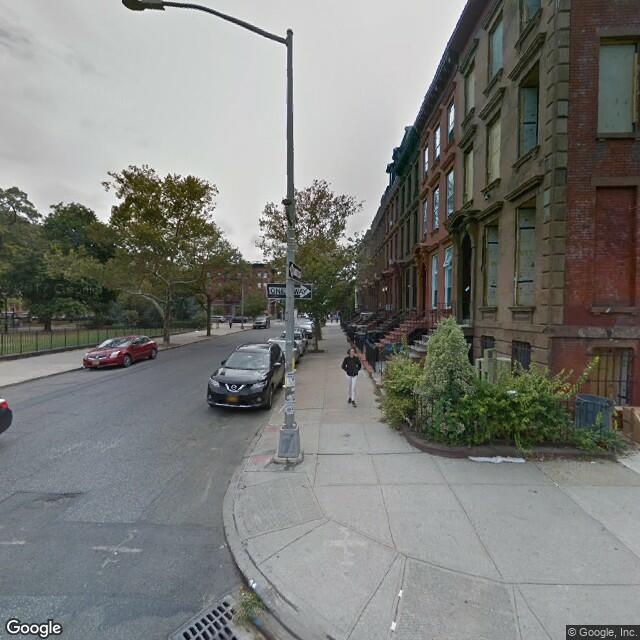litter: (465, 453, 530, 464), (239, 583, 253, 601), (395, 426, 404, 437), (218, 540, 227, 550), (537, 457, 547, 463), (590, 460, 596, 467), (195, 330, 201, 334)
